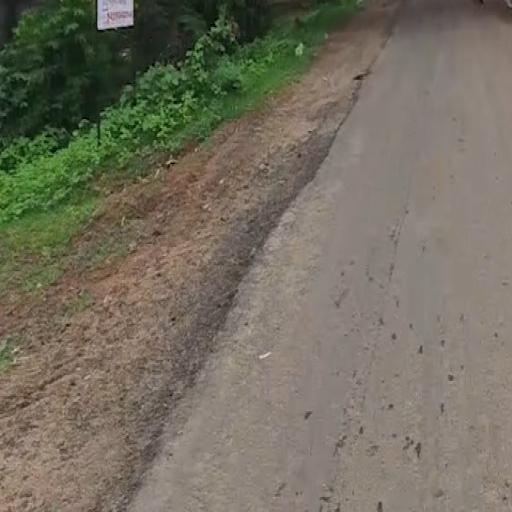edge_damage: (157, 158, 367, 452)
